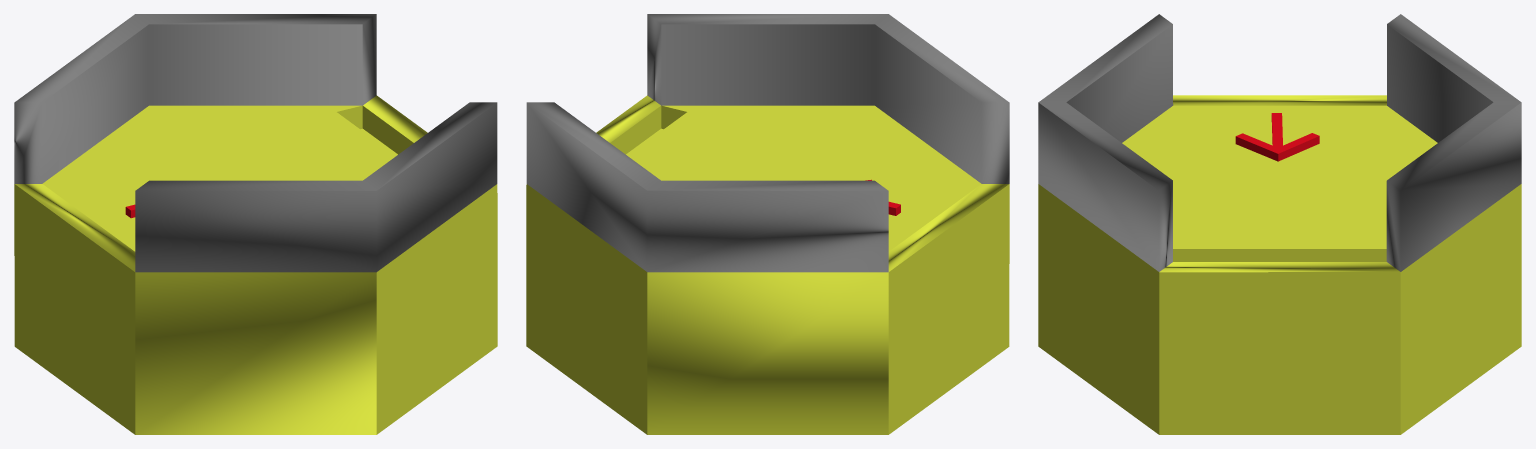
The model's file is Pathway1-2.fbx.
3 views of the same model, side by side, from view 1: azimuth 30°, elevation 25°; view 2: azimuth 150°, elevation 25°; view 3: azimuth 270°, elevation 25° (orthographic).
Visible parts, largest first — view 1: Pathway1-2; view 2: Pathway1-2; view 3: Pathway1-2.
Part boxes in pixels (bbox=[...]): Pathway1-2: bbox=[14, 14, 497, 434]; Pathway1-2: bbox=[526, 14, 1009, 434]; Pathway1-2: bbox=[1038, 14, 1521, 434].
Bounding box in the file's own units: 173 × 112 × 200.
